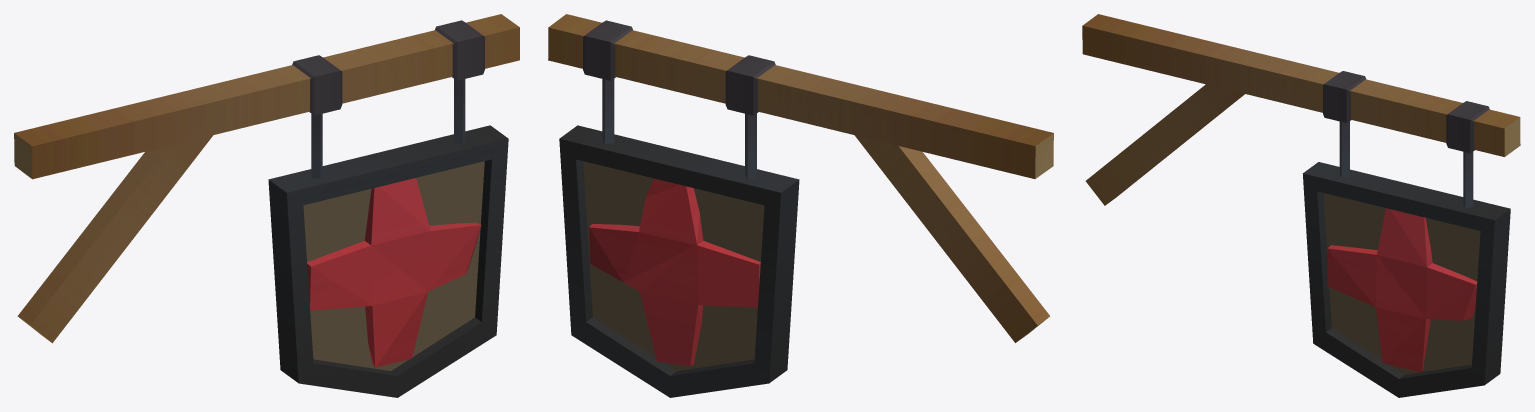
The model's file is SignBoard_9_LOD1.fbx.
The picture shows the model from 3 angles, left to right: view 1: azimuth 30°, elevation 25°; view 2: azimuth 150°, elevation 25°; view 3: azimuth 330°, elevation 25°; orthographic projection. The views are drawn at different scales.
Parts seen in each view (by area): view 1: polySurface10669; view 2: polySurface10669; view 3: polySurface10669.
Boxes of the visible parts, x1,y1,x2,y2 form: polySurface10669: (14, 14, 519, 397); polySurface10669: (548, 14, 1053, 397); polySurface10669: (1082, 14, 1520, 397).
Size of the model in its own units: 308 by 207 by 23.29.
